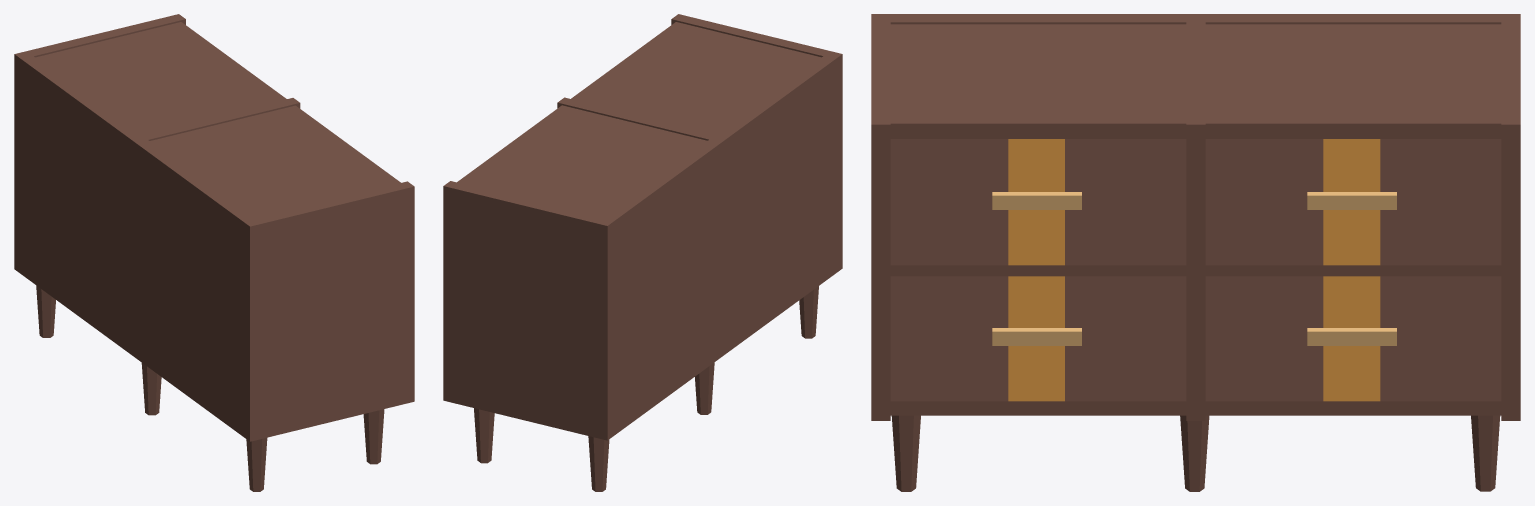
File: cupboard.fbx
3 views of the same model, side by side, from view 1: azimuth 30°, elevation 25°; view 2: azimuth 150°, elevation 25°; view 3: azimuth 270°, elevation 25° (orthographic). The views are drawn at different scales.
Visible parts, largest first — view 1: mesh_907466834, mesh_1697177697, mesh_1188150494, mesh_460319860, mesh_1371453531, group_1922718748, group_651829520, group_2074098319, group_1411203478; view 2: mesh_907466834, mesh_1371453531, mesh_1188150494, mesh_460319860, mesh_1697177697, group_1411203478, group_2085547140, group_651829520, group_2074098319; view 3: mesh_1188150494, group_90124938, group_1704633651, group_1049979582, group_1332658999, mesh_2117863080, mesh_1371453531, mesh_1697177697, mesh_460319860, mesh_702753794, mesh_907466834, group_1922718748 (+2 smaller).
Boxes of the visible parts, x1,y1,x2,y2 form: mesh_907466834: (14,51,262,441); mesh_1697177697: (255,181,414,438); mesh_1188150494: (35,22,400,218); mesh_460319860: (141,98,300,140); mesh_1371453531: (27,14,185,57); group_1922718748: (363,409,384,464); group_651829520: (246,437,267,491); group_2074098319: (141,363,161,415); group_1411203478: (36,285,55,337); mesh_907466834: (595,51,842,440); mesh_1371453531: (443,181,601,437); mesh_1188150494: (457,22,821,217); mesh_460319860: (557,97,715,140); mesh_1697177697: (671,14,829,57); group_1411203478: (588,436,609,491); group_2085547140: (474,408,494,463); group_651829520: (799,286,818,338); group_2074098319: (695,362,714,414); mesh_1188150494: (890,24,1501,138); group_90124938: (1205,139,1501,265); group_1704633651: (890,139,1186,265); group_1049979582: (1205,276,1501,401); group_1332658999: (890,276,1186,401); mesh_2117863080: (890,401,1501,415); mesh_1371453531: (1501,22,1520,420); mesh_1697177697: (871,22,890,420); mesh_460319860: (1186,22,1205,420); mesh_702753794: (890,265,1501,276); mesh_907466834: (871,14,1520,24); group_1922718748: (891,415,920,491).
Bounding box in the file's own units: 108 × 174 × 268.
